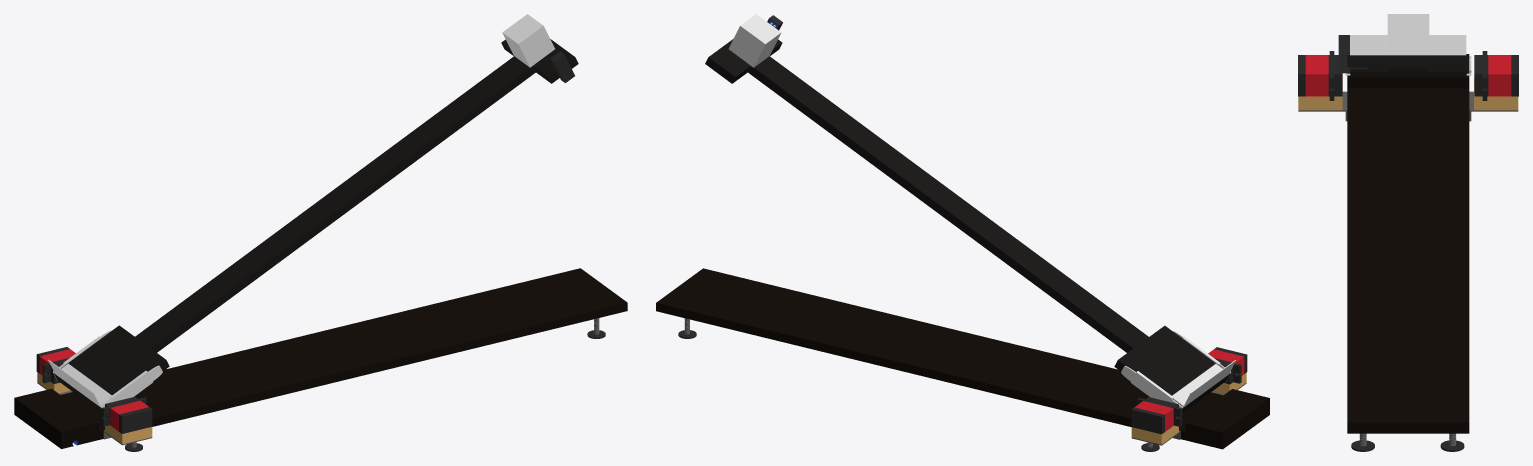
The model's file is plano_inclinado.glb.
3 renders of one model, left to right at view 1: azimuth 30°, elevation 25°; view 2: azimuth 150°, elevation 25°; view 3: azimuth 270°, elevation 25°, orthographic. The views are drawn at different scales.
Parts seen in each view (by area): view 1: Cube.012, Cube.014, Cube.016; view 2: Cube.012, Cube.014, Cube.016; view 3: Cube.012, Cube.014, Cube.016.
Part boxes in pixels (x1=…): Cube.012: x1=14, y1=268, x2=627, y2=451; Cube.014: x1=48, y1=39, x2=578, y2=412; Cube.016: x1=502, y1=14, x2=554, y2=67; Cube.012: x1=656, y1=268, x2=1269, y2=451; Cube.014: x1=705, y1=15, x2=1235, y2=412; Cube.016: x1=728, y1=14, x2=781, y2=67; Cube.012: x1=1298, y1=51, x2=1518, y2=451; Cube.014: x1=1338, y1=35, x2=1471, y2=75; Cube.016: x1=1387, y1=14, x2=1429, y2=55.
Bounding box in the file's own units: 13.9 × 7.34 × 3.63.
